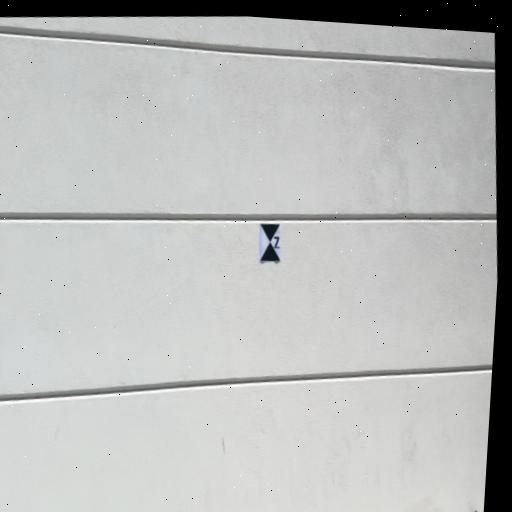target7: (257, 223, 283, 264)
